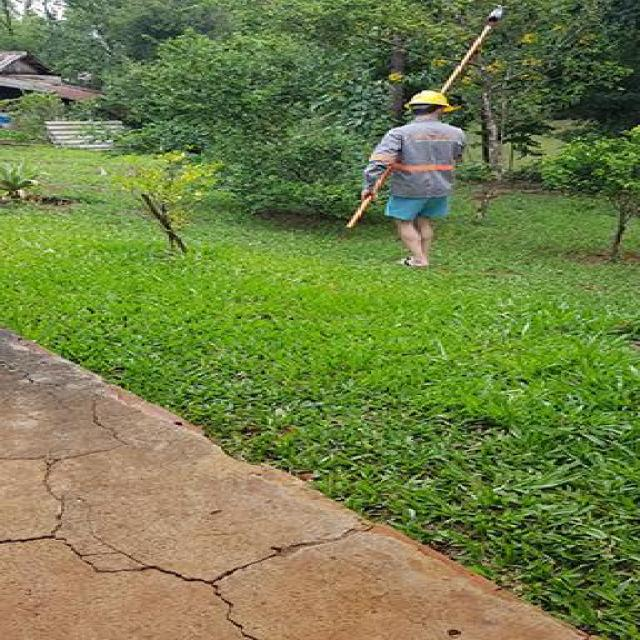helmet: (400, 89, 456, 116)
